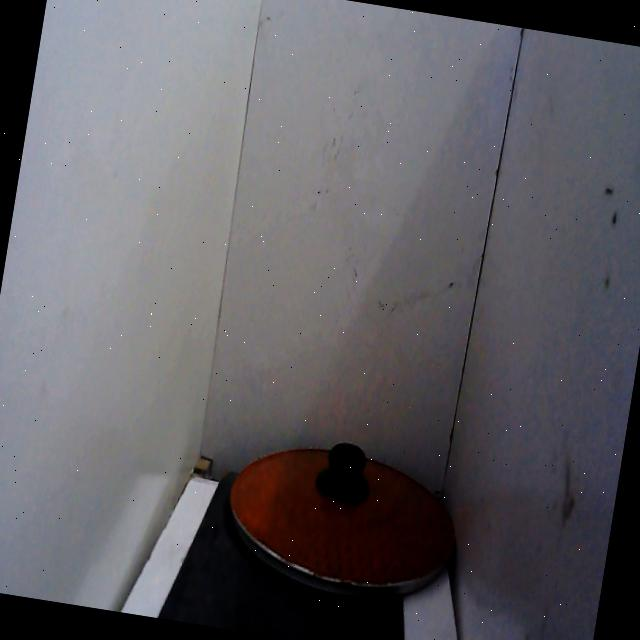metal: (209, 410, 477, 620)
